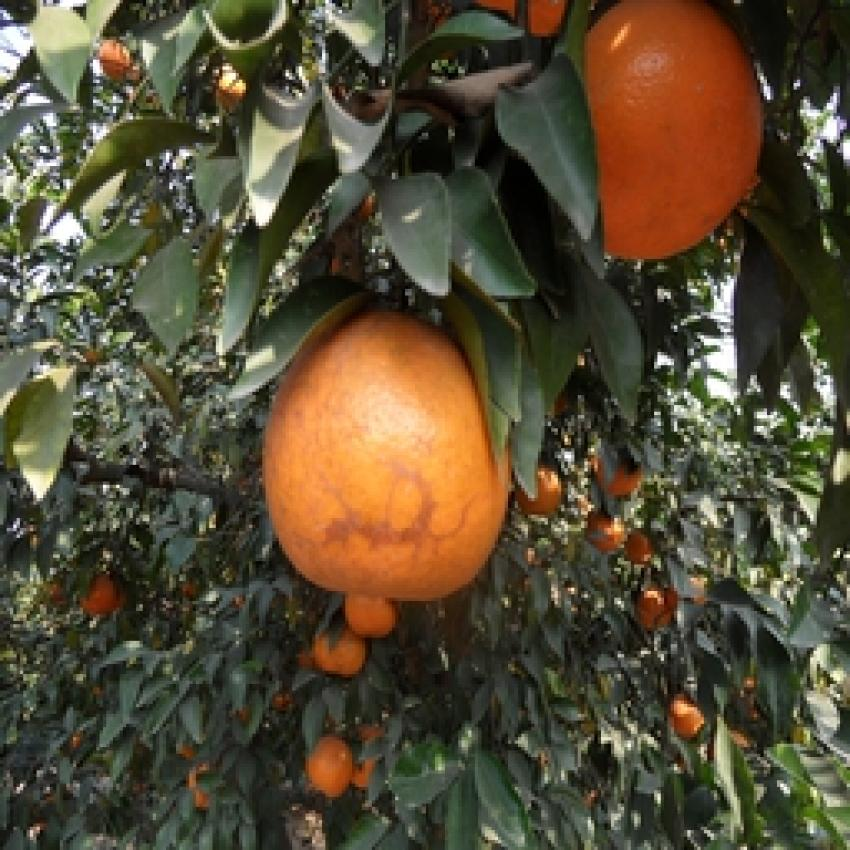Mal estado: (255, 282, 530, 634), (529, 9, 780, 288)
